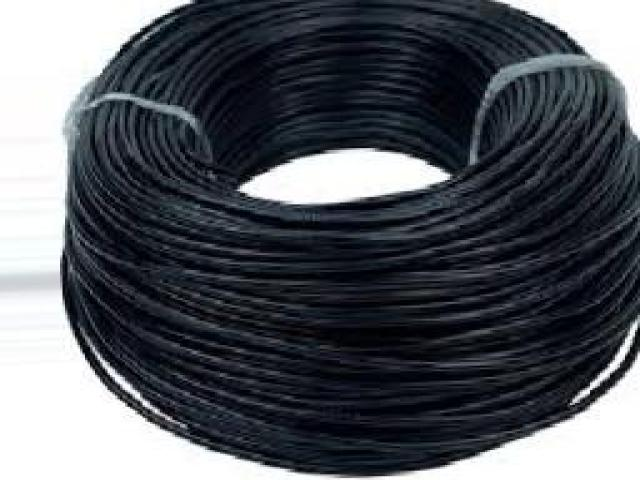wire: (62, 0, 640, 472)
